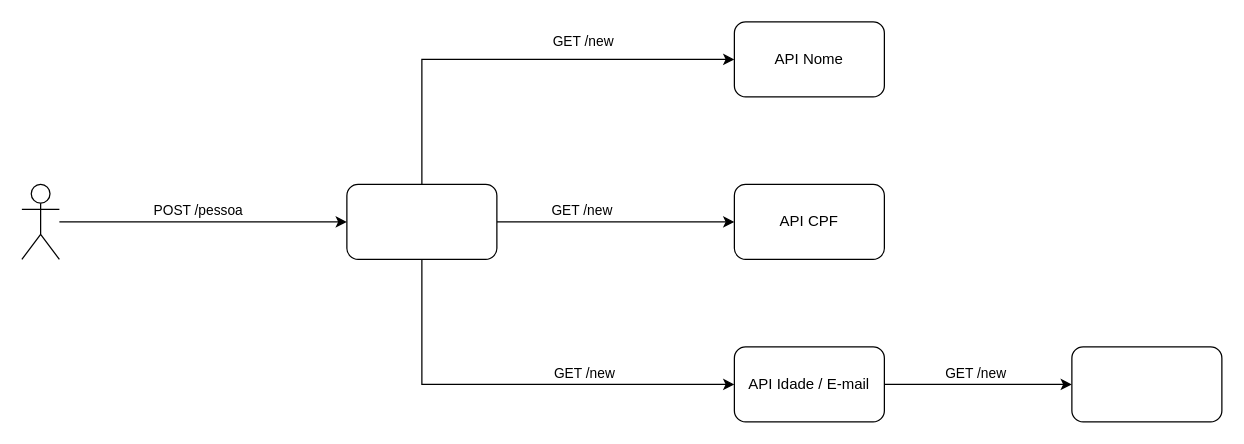
Image size: 1244x444. Some labels were removed from this diagram. Each missing label, with the centre of its shape:
"API E-mail" belongs at (x=1146, y=384).
"API Pessoa" belongs at (x=421, y=221).
